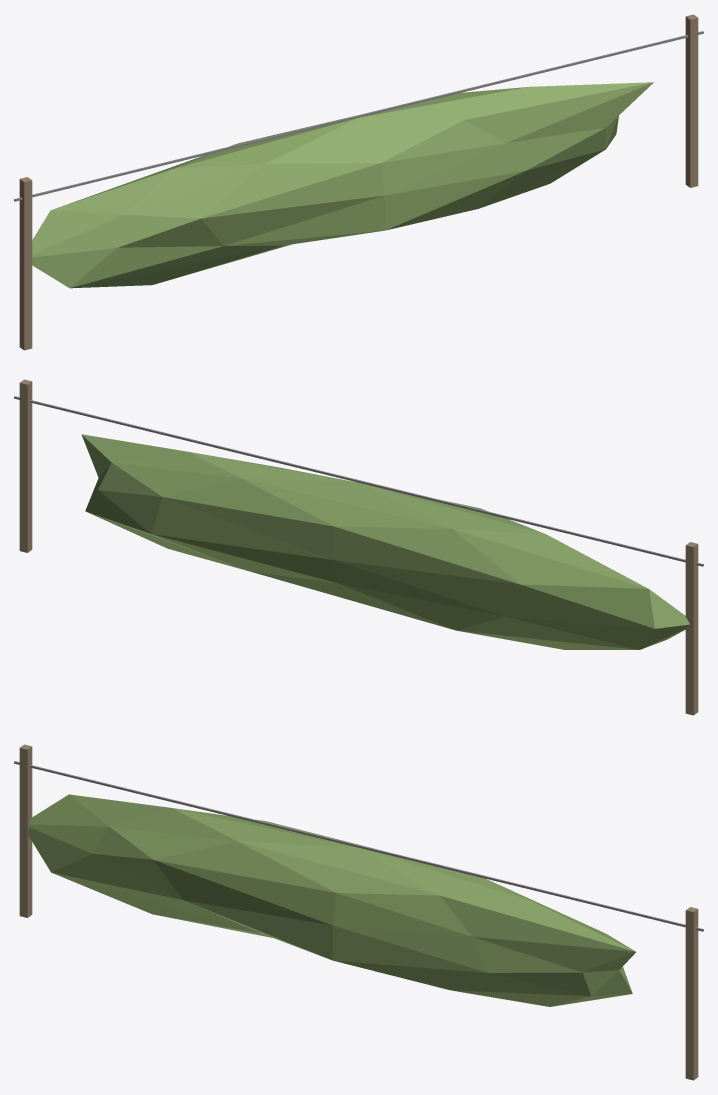
Rendered from env_vinedo.glb.
The picture shows the model from 3 angles, top to bottom: view 1: azimuth 30°, elevation 25°; view 2: azimuth 150°, elevation 25°; view 3: azimuth 330°, elevation 25°; orthographic projection.
Visible parts, largest first — view 1: vinedo; view 2: vinedo; view 3: vinedo.
Part boxes in pixels (x1,y1,x2,y2): vinedo: [14, 14, 703, 350]; vinedo: [14, 379, 703, 715]; vinedo: [14, 744, 703, 1080].
Bounding box in the file's own units: 6 × 1.4 × 0.7787.
